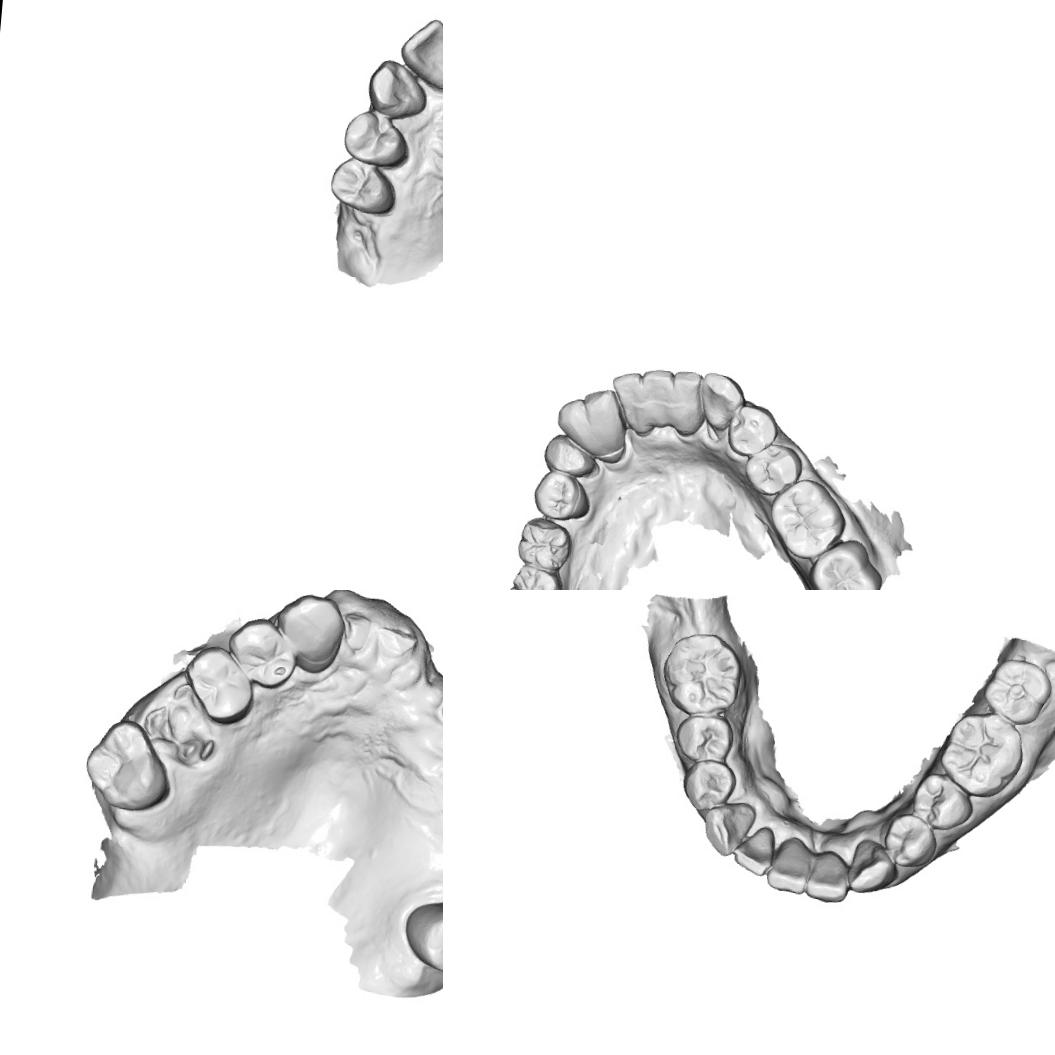canine: (272, 591, 350, 676), (364, 54, 431, 120), (700, 797, 757, 859), (692, 370, 748, 433), (846, 834, 900, 897), (552, 395, 598, 450)
incisor: (396, 14, 443, 93), (577, 385, 632, 446), (606, 368, 652, 434), (802, 846, 854, 904), (763, 834, 812, 894), (730, 822, 780, 878), (666, 368, 706, 436), (636, 366, 678, 425)
molar: (81, 715, 176, 815), (935, 708, 1028, 801), (659, 628, 746, 718), (764, 474, 850, 564), (978, 656, 1055, 728), (804, 534, 886, 590), (514, 514, 574, 575), (400, 892, 443, 977), (503, 563, 565, 590)
premolar: (179, 641, 259, 727), (222, 613, 300, 691), (326, 151, 400, 216), (908, 769, 977, 834), (340, 108, 411, 168), (740, 439, 805, 499), (880, 810, 940, 870), (672, 710, 736, 765), (679, 756, 739, 814), (529, 468, 593, 522), (723, 400, 780, 458), (540, 430, 598, 479)
